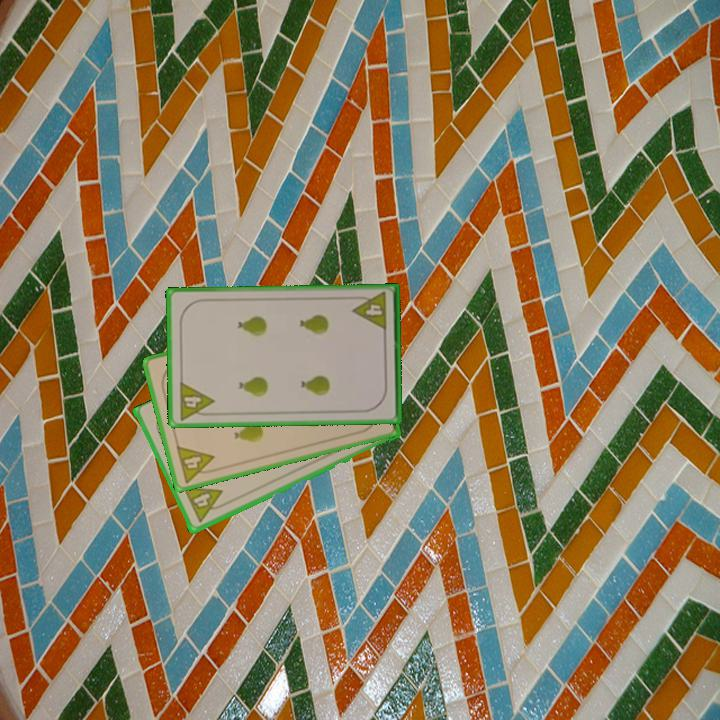4p: (180, 483, 230, 526), (173, 442, 220, 486), (175, 378, 217, 423), (350, 289, 389, 333)
